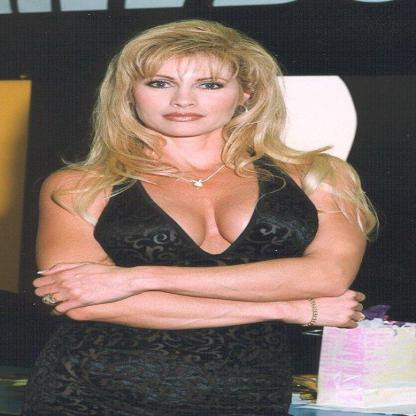long-hair: (67, 135, 310, 172)
